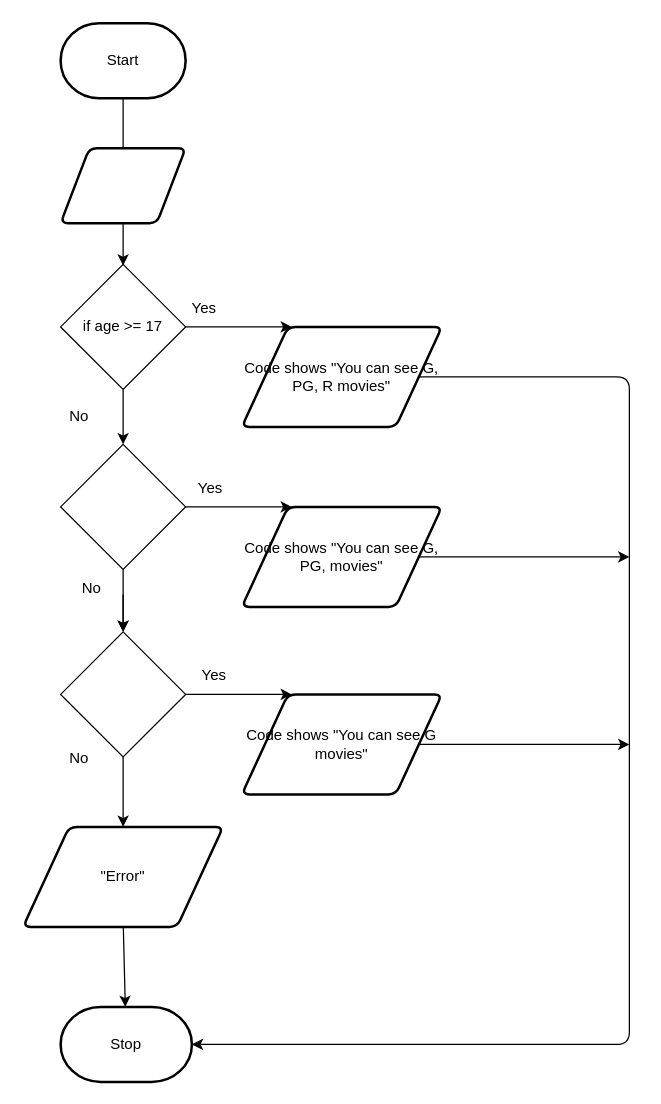
Image size: 661x1104. Some labels were removed from this diagram. The centre of each missing label's shape, as x and y in pixels:
if age <= 12: point 122,694
if age >= 13: point 122,506
User inputs their age: point 122,185
